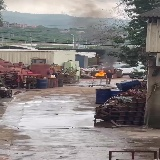fire: (94, 70, 106, 76)
